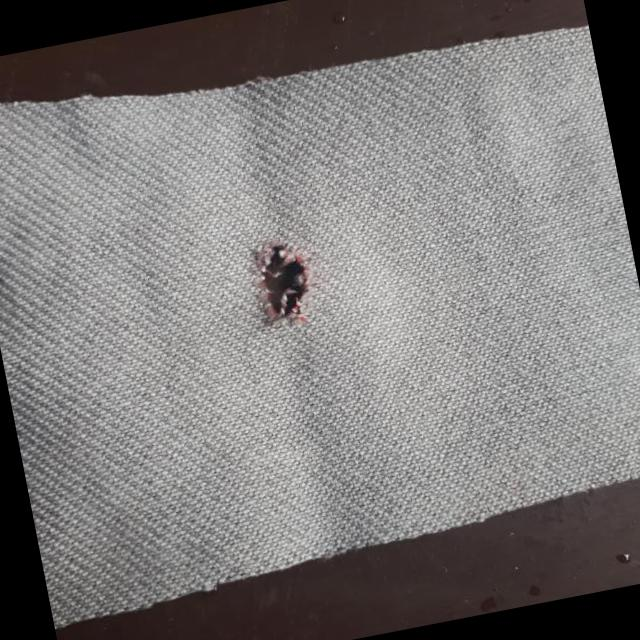hole: (246, 234, 317, 330)
